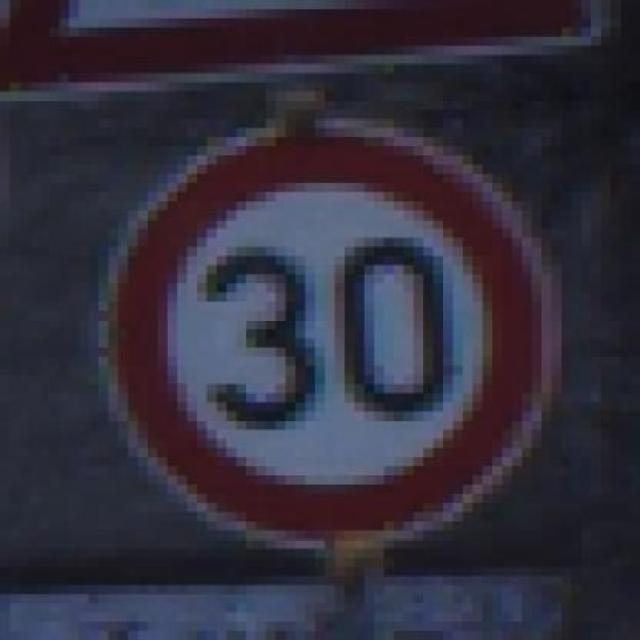Speed Limit 30 KMPh: (49, 119, 620, 576)
